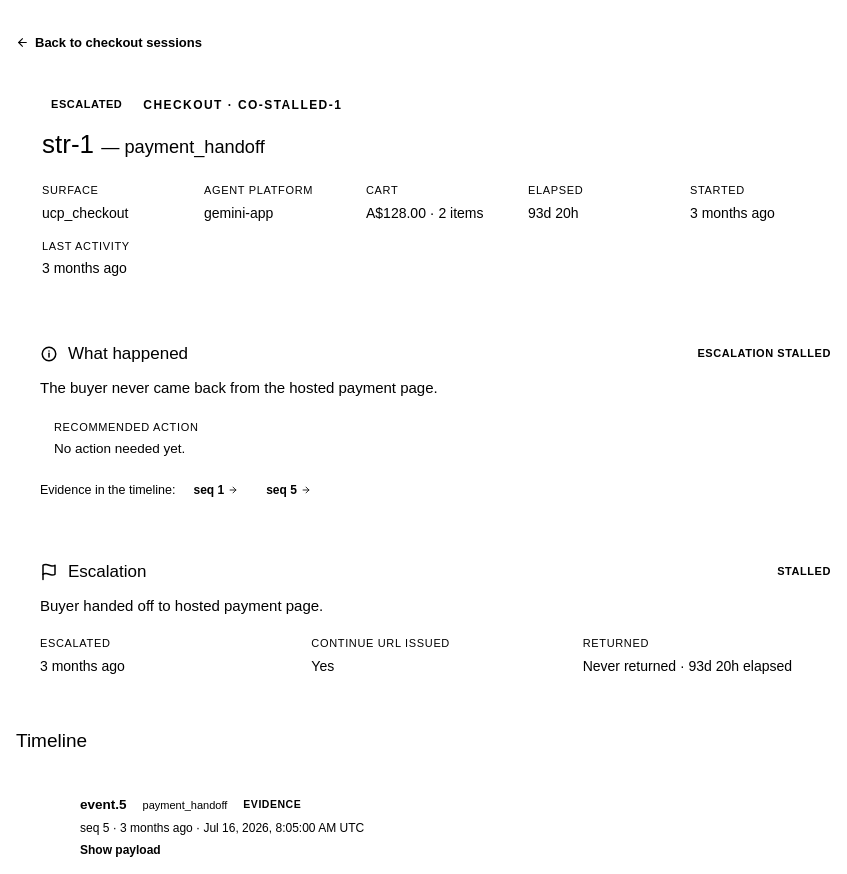
Test: CheckoutSessionDetailView — evidence highlighting + jump-to (R8) › clicking an evidence chip scrolls the matching entry into view, paging further back if needed
The width and height of the screenshot is (847, 874).
Step 1. Click the button with class "evidence-chip" showing "seq 1" → (216, 490), box [184, 479, 248, 501]
(page scrolled)
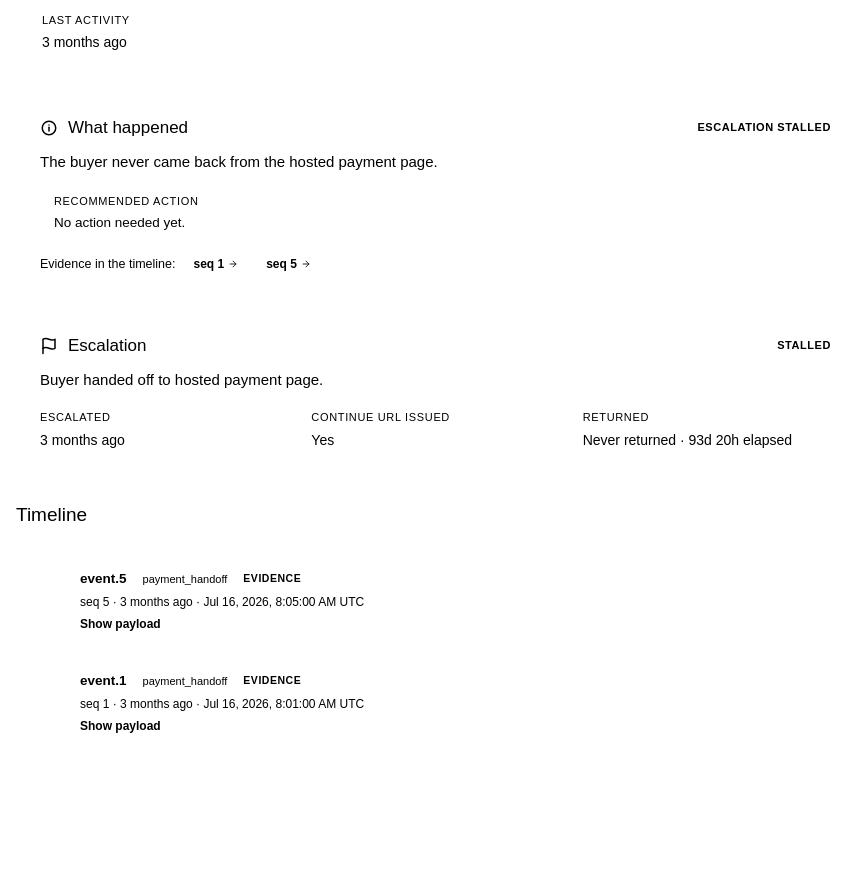
Check: the list item with id "timeline-entry-1" is shown, box [80, 673, 364, 733]
